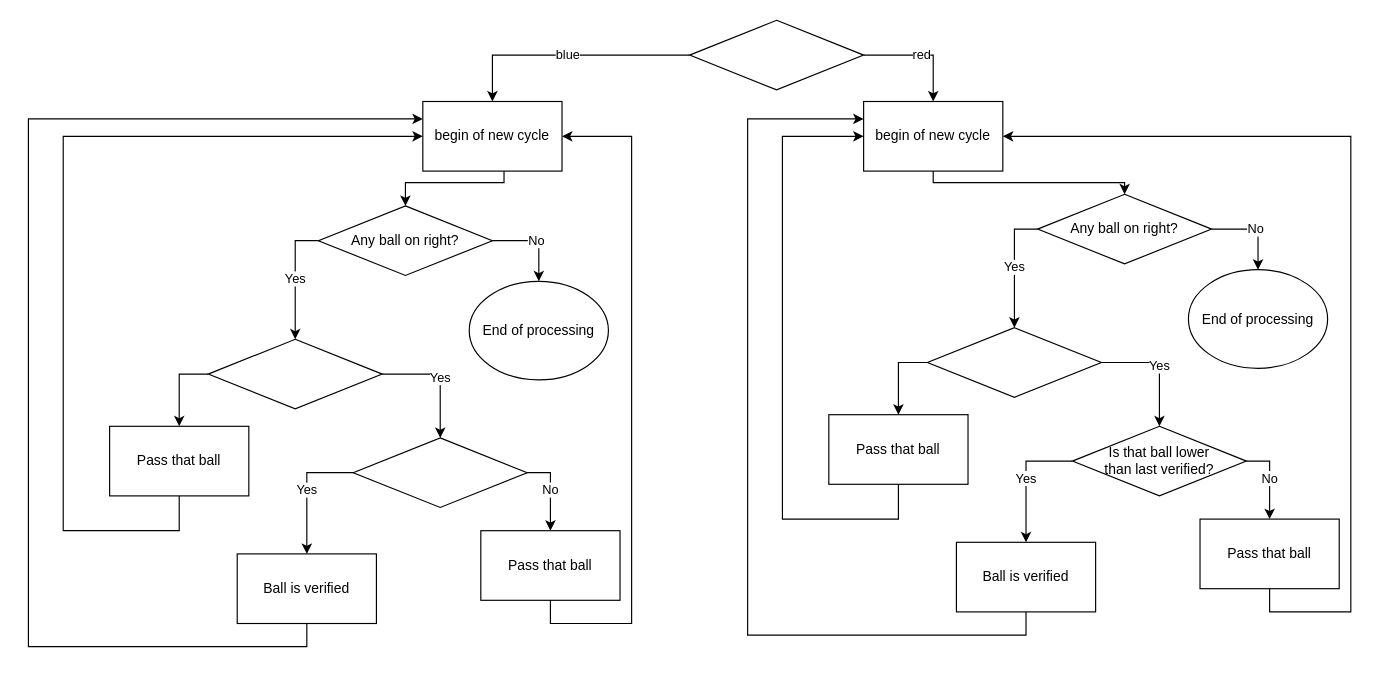
Some shapes in this 1380 by 676 pixel diagram are drawn without their labels. Each missing label, with the centre of its shape:
"Is that ball upper than last verified?" goes at [439,472].
"Is there smth blue below it?" goes at [294,373].
"Is there smth red below it?" goes at [1013,362].
"Team color?" goes at [776,54].
